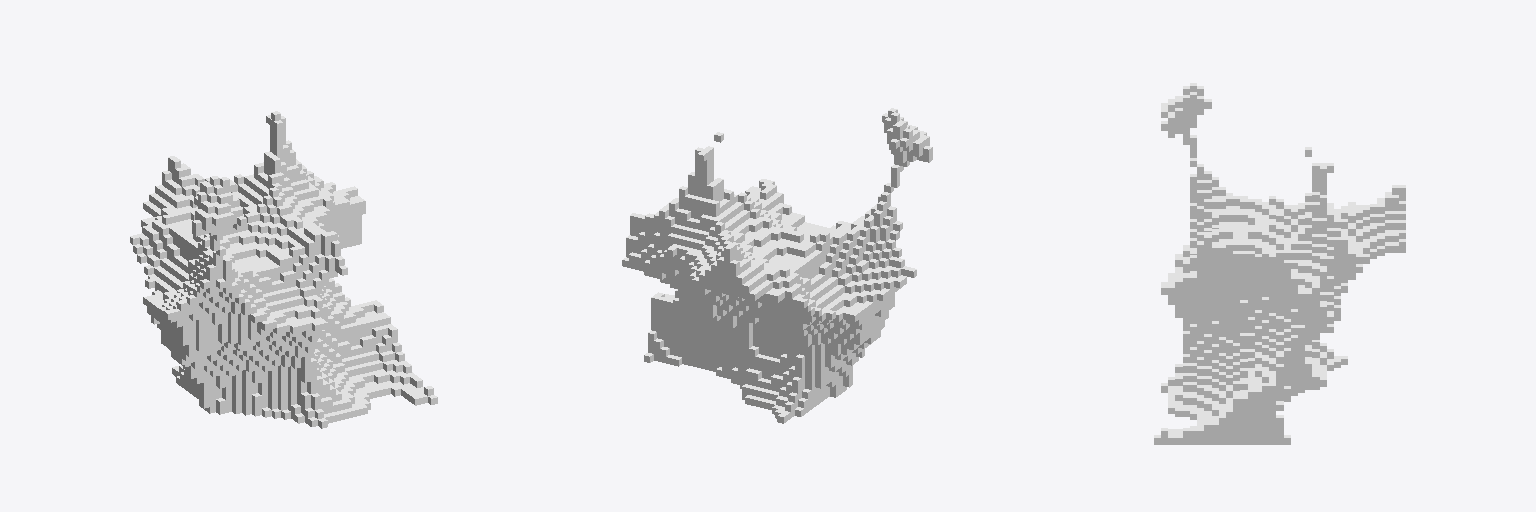
File: spinner.obj
3 views of the same model, side by side, from view 1: azimuth 30°, elevation 25°; view 2: azimuth 150°, elevation 25°; view 3: azimuth 270°, elevation 25° (orthographic).
Size of the model in its own units: 38 by 40 by 35.